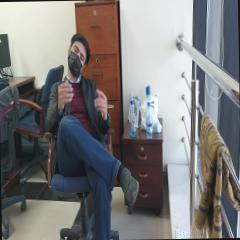not-gloved: (57, 78, 73, 109), (93, 88, 108, 120)
